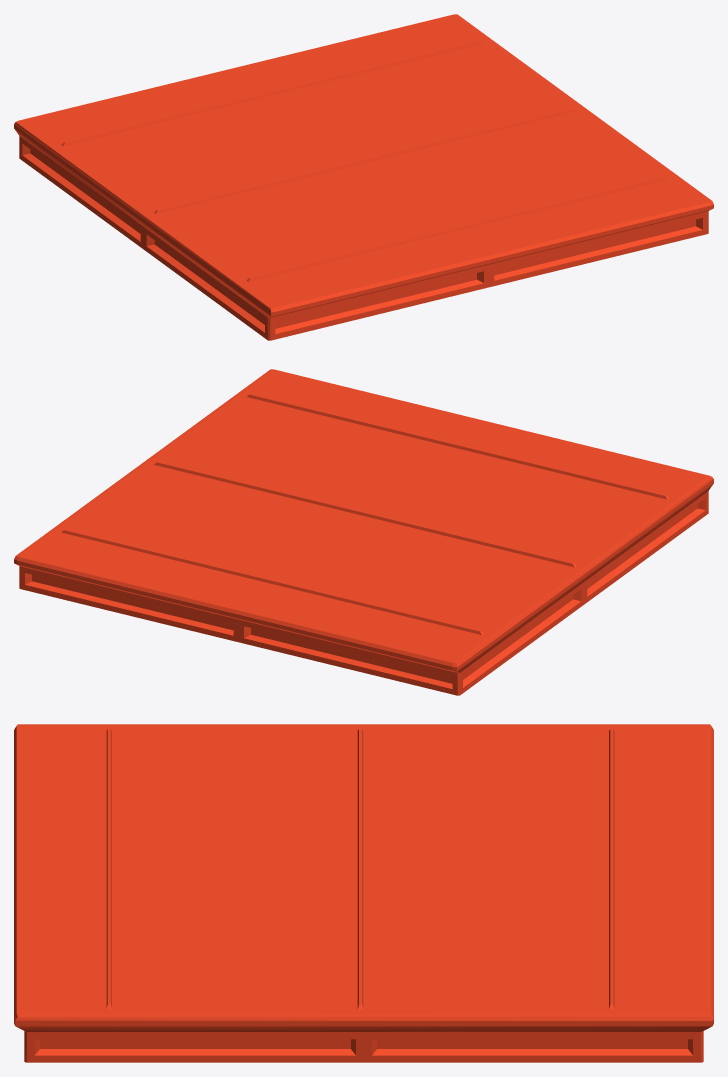
Rendered from SM_Squarehouse_Roof_A_City.fbx.
3 renders of one model, top to bottom at view 1: azimuth 30°, elevation 25°; view 2: azimuth 150°, elevation 25°; view 3: azimuth 270°, elevation 25°, orthographic. The views are drawn at different scales.
Visible parts, largest first — view 1: SM_Squarehouse_Roof_A_City; view 2: SM_Squarehouse_Roof_A_City; view 3: SM_Squarehouse_Roof_A_City.
Boxes of the visible parts, bbox=[...] form: SM_Squarehouse_Roof_A_City: bbox=[14, 14, 713, 340]; SM_Squarehouse_Roof_A_City: bbox=[14, 369, 713, 695]; SM_Squarehouse_Roof_A_City: bbox=[14, 724, 713, 1062].
Bounding box in the file's own units: 6.13 × 0.4906 × 6.18.
